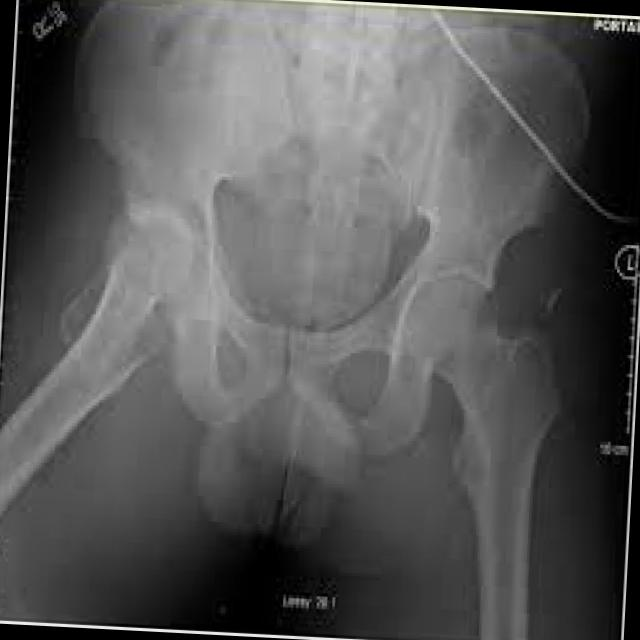normal-left: (410, 278, 560, 640)
normal-right: (0, 213, 195, 519)
